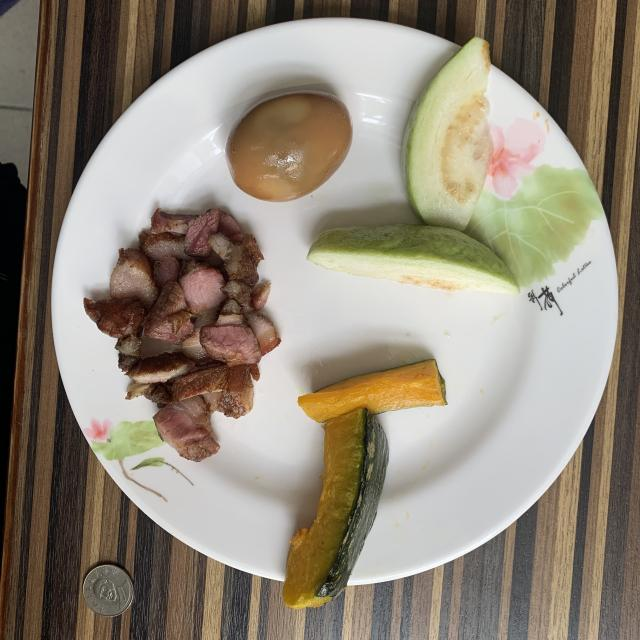coin: (82, 565, 134, 616)
grilled pork: (84, 210, 280, 461)
guava -sliced-: (308, 38, 519, 294)
pumpkin: (282, 360, 446, 609)
soy egg: (226, 92, 351, 201)
